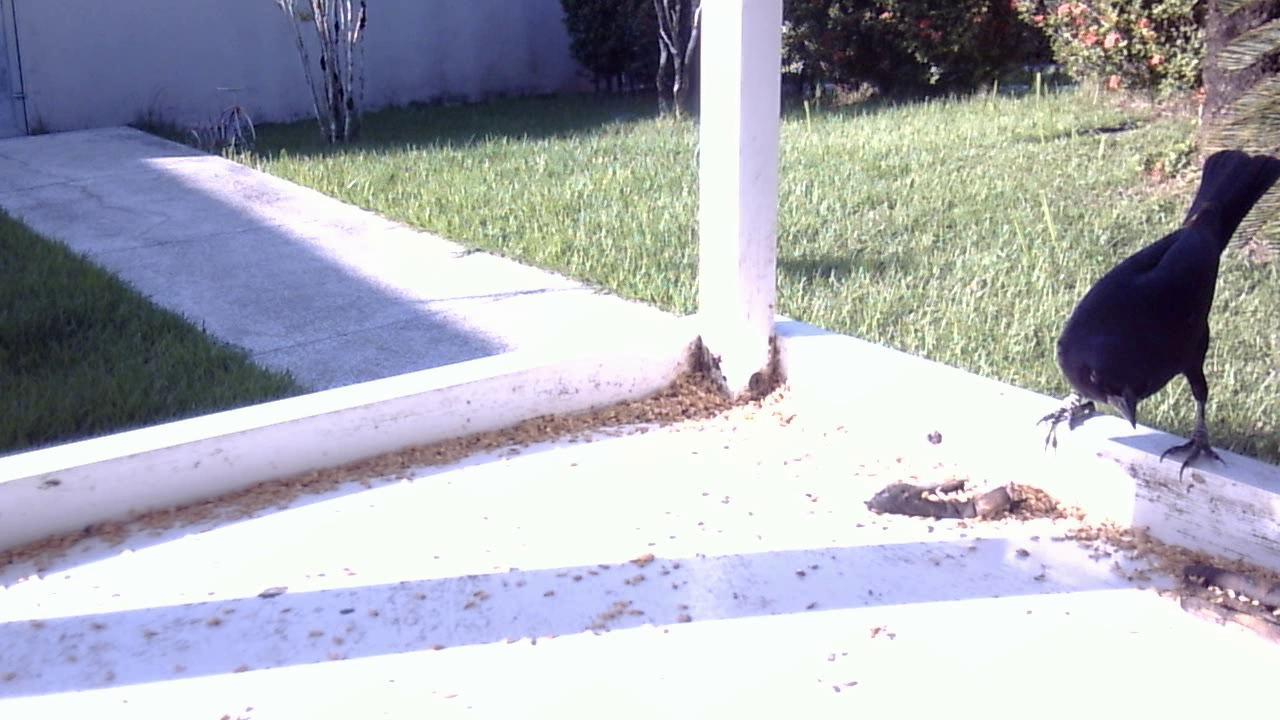chupim: (1027, 151, 1275, 482)
